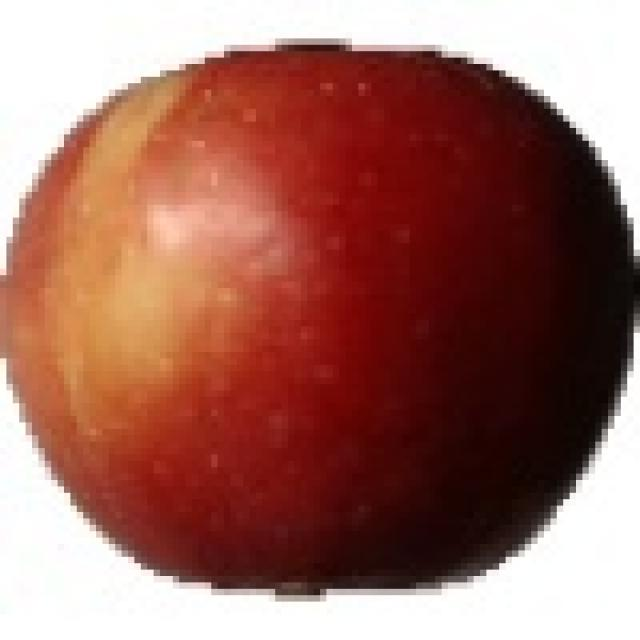apple: (6, 38, 637, 610)
